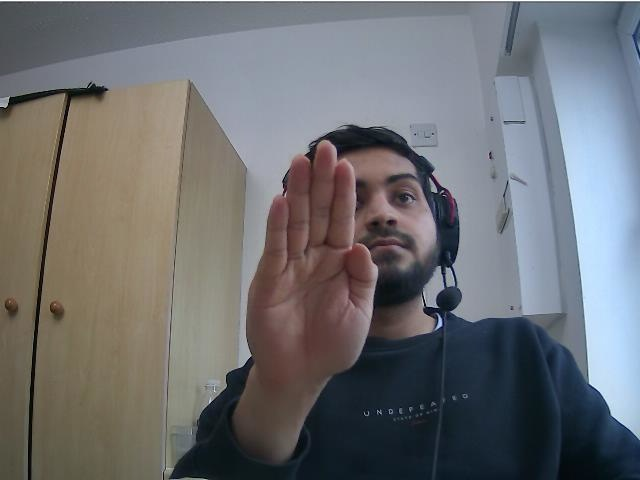up: (244, 138, 379, 368)
